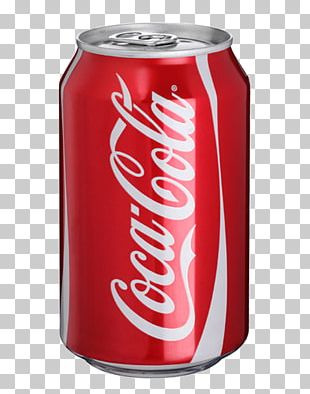coke: (59, 24, 250, 379)
